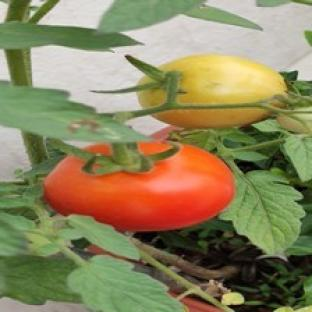Tomato: (44, 145, 233, 231), (159, 55, 286, 105), (278, 108, 311, 133), (151, 126, 181, 140)
